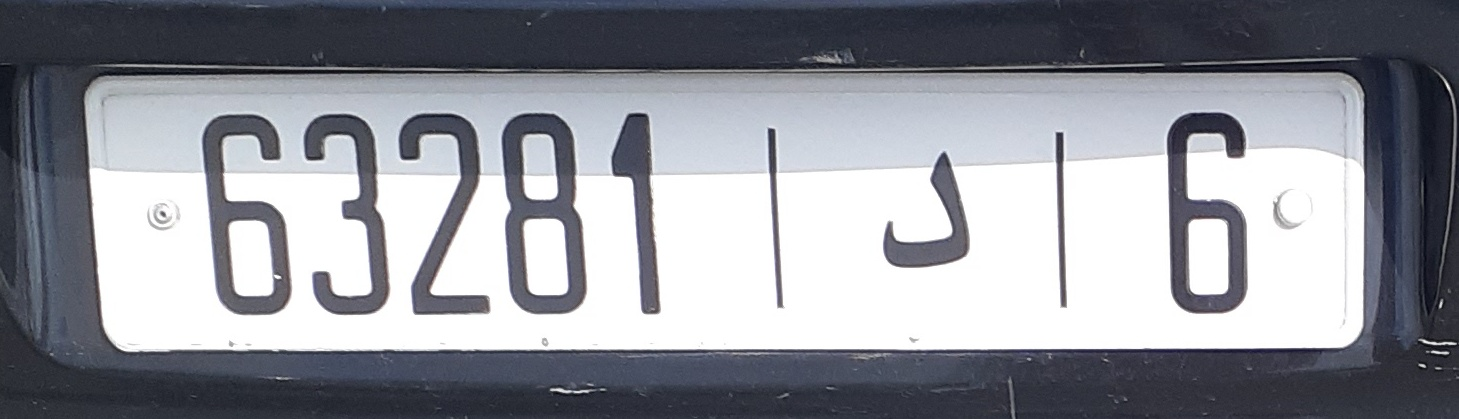1: (603, 98, 682, 330)
2: (387, 104, 493, 330)
3: (299, 111, 396, 330)
6: (1149, 95, 1261, 330), (189, 108, 295, 321)
8: (495, 100, 592, 328)
d: (861, 132, 990, 291)
